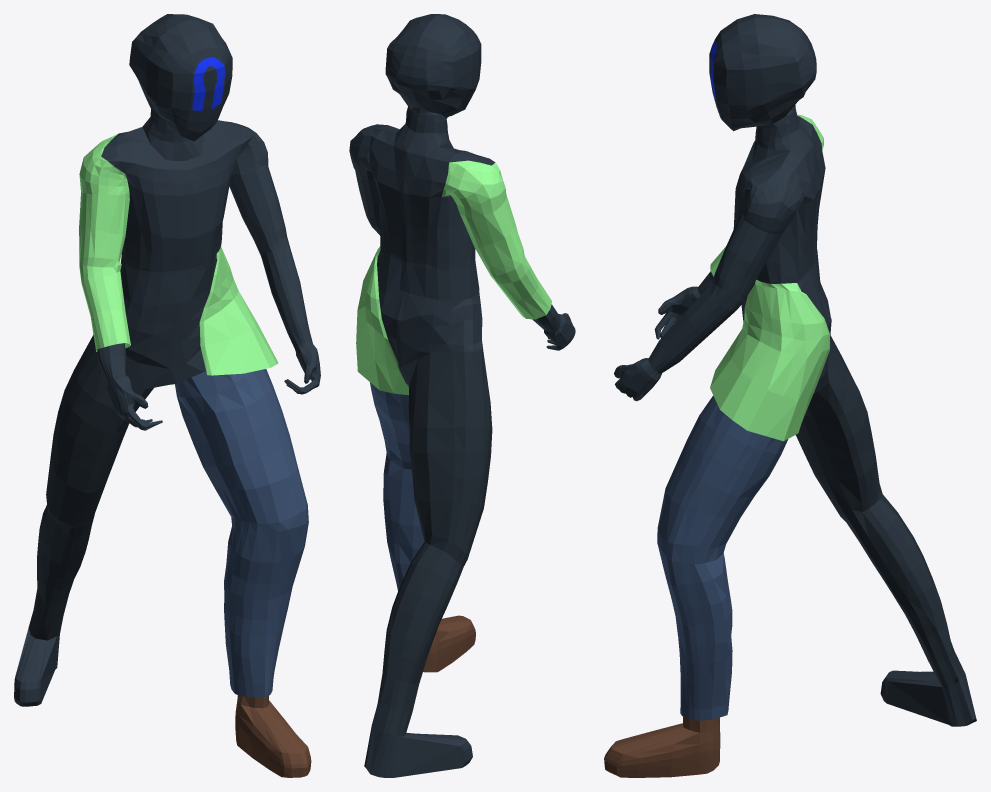
Rendered from Mar_Recover_000029.obj.
3 renders of one model, left to right at view 1: azimuth 30°, elevation 25°; view 2: azimuth 150°, elevation 25°; view 3: azimuth 270°, elevation 25°, orthographic. The views are drawn at different scales.
Visible parts, largest first — view 1: Cube.000_Cube.001; view 2: Cube.000_Cube.001; view 3: Cube.000_Cube.001.
Boxes of the visible parts, box(x1,y1,x2,y2) form: Cube.000_Cube.001: box(14, 14, 320, 777); Cube.000_Cube.001: box(349, 14, 575, 777); Cube.000_Cube.001: box(604, 14, 976, 777).
Size of the model in its own units: 1.07 by 3.8 by 1.75.
